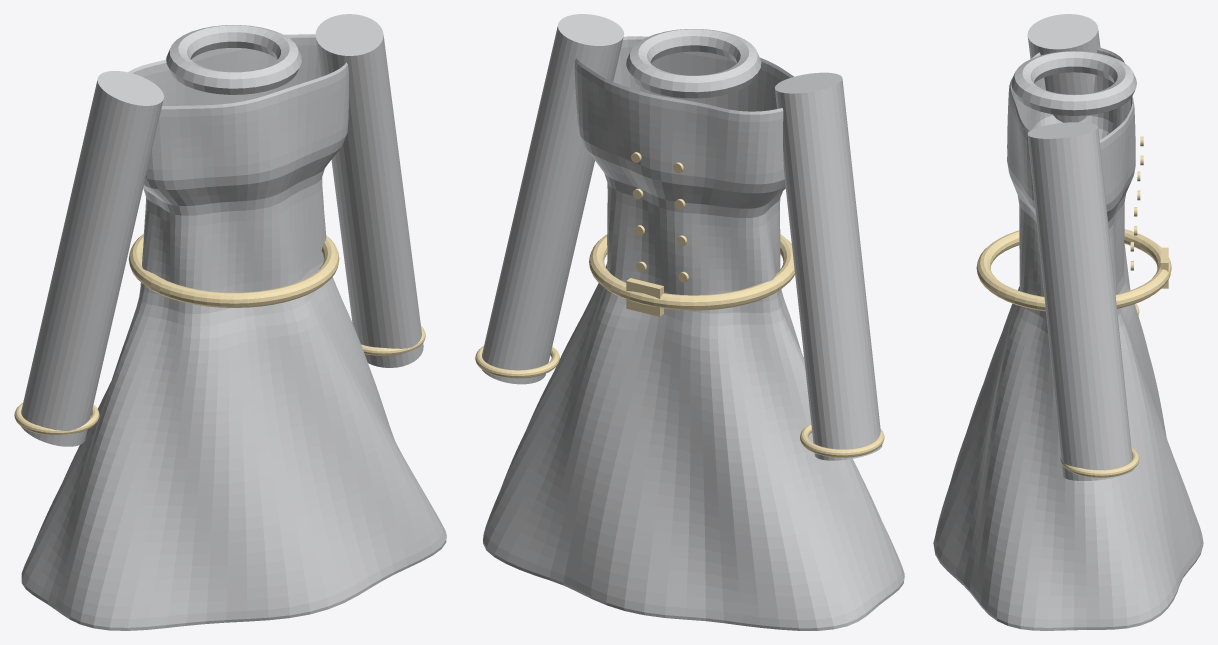
The model's file is garment_mercury_trench.glb.
3 views of the same model, side by side, from view 1: azimuth 30°, elevation 25°; view 2: azimuth 150°, elevation 25°; view 3: azimuth 270°, elevation 25° (orthographic). The views are drawn at different scales.
Parts seen in each view (by area): view 1: Trench_Torso, Trench_Sleeve_L, Trench_Sleeve_R, Trench_Collar, Trench_Belt, Trench_Cuff_L; view 2: Trench_Torso, Trench_Sleeve_L, Trench_Sleeve_R, Trench_Collar, Trench_Belt, Trench_Cuff_L, Trench_Cuff_R, Trench_Buckle; view 3: Trench_Torso, Trench_Sleeve_R, Trench_Collar, Trench_Sleeve_L, Trench_Belt, Trench_Cuff_R.
Boxes of the visible parts, bbox=[...] form: Trench_Torso: bbox=[21, 34, 446, 630]; Trench_Sleeve_L: bbox=[21, 71, 163, 446]; Trench_Sleeve_R: bbox=[315, 14, 423, 367]; Trench_Collar: bbox=[166, 25, 301, 94]; Trench_Belt: bbox=[128, 233, 339, 307]; Trench_Cuff_L: bbox=[14, 403, 99, 434]; Trench_Torso: bbox=[483, 36, 904, 630]; Trench_Sleeve_L: bbox=[775, 72, 882, 460]; Trench_Sleeve_R: bbox=[482, 14, 623, 384]; Trench_Collar: bbox=[626, 29, 761, 98]; Trench_Belt: bbox=[589, 234, 794, 310]; Trench_Cuff_L: bbox=[800, 423, 884, 457]; Trench_Cuff_R: bbox=[475, 346, 559, 378]; Trench_Buckle: bbox=[626, 278, 663, 316]; Trench_Torso: bbox=[933, 47, 1203, 630]; Trench_Sleeve_R: bbox=[1027, 122, 1133, 480]; Trench_Collar: bbox=[1011, 51, 1136, 115]; Trench_Sleeve_L: bbox=[1027, 14, 1130, 290]; Trench_Belt: bbox=[976, 229, 1171, 311]; Trench_Cuff_R: bbox=[1060, 447, 1139, 477].
Size of the model in its own units: 1.32 by 1.61 by 0.8363.
